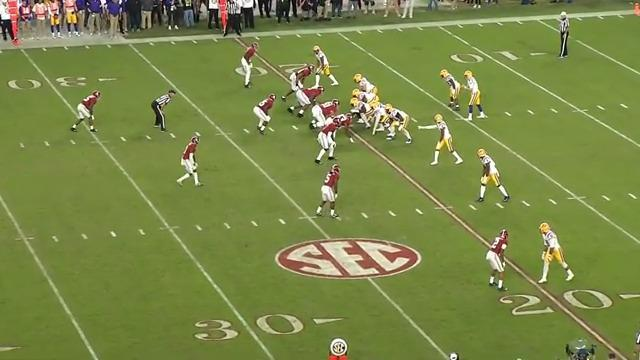defense: (316, 164, 346, 222), (485, 227, 511, 292), (175, 132, 204, 190), (316, 113, 345, 167), (69, 89, 102, 136), (288, 85, 327, 119), (236, 40, 260, 91), (252, 91, 278, 136), (282, 66, 313, 101), (309, 97, 340, 131), (326, 113, 355, 143)
oline: (384, 104, 415, 146), (348, 93, 375, 127), (366, 102, 390, 135), (352, 72, 377, 93), (351, 88, 380, 104)
qb: (463, 70, 486, 124)
ref: (151, 88, 178, 134), (556, 11, 573, 62)
skill: (537, 220, 576, 284), (475, 147, 513, 204), (429, 113, 463, 169), (309, 42, 339, 88), (440, 68, 461, 112)
